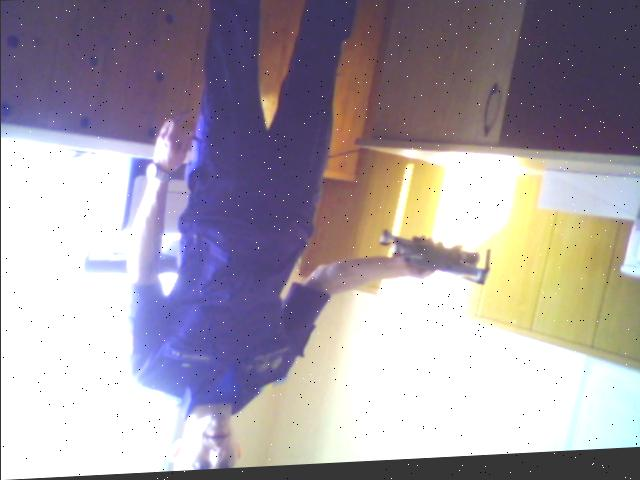drone: (360, 218, 504, 306)
